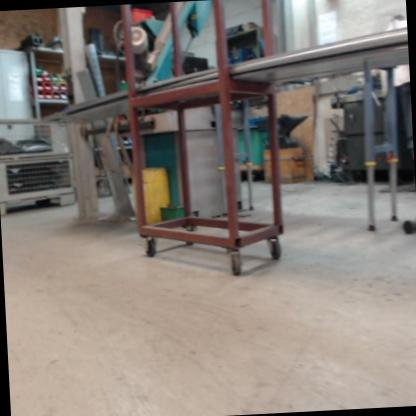stillage: (0, 117, 74, 211)
